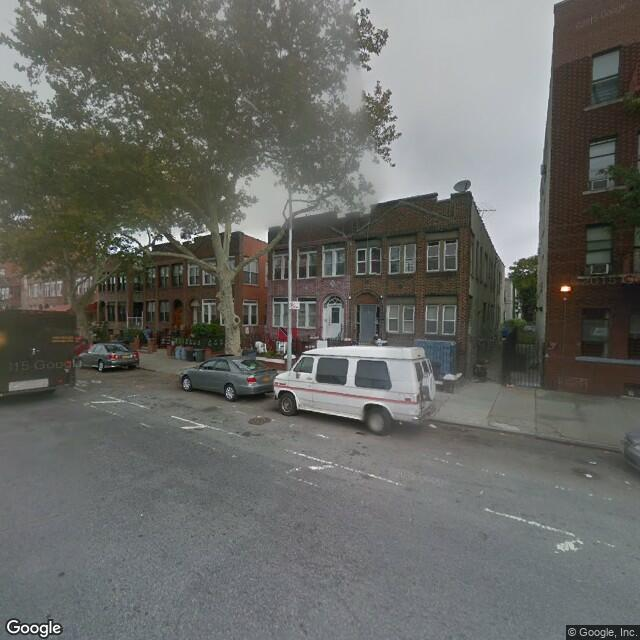litter: (583, 456, 603, 466), (425, 421, 440, 434), (90, 375, 103, 389), (504, 381, 517, 395), (127, 390, 140, 400), (582, 472, 595, 480), (442, 451, 453, 459), (138, 512, 146, 519), (231, 405, 241, 409)
